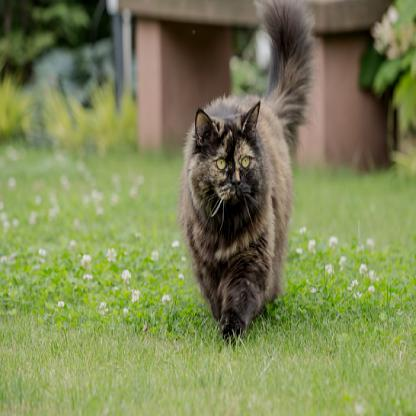cat: (180, 0, 315, 344)
